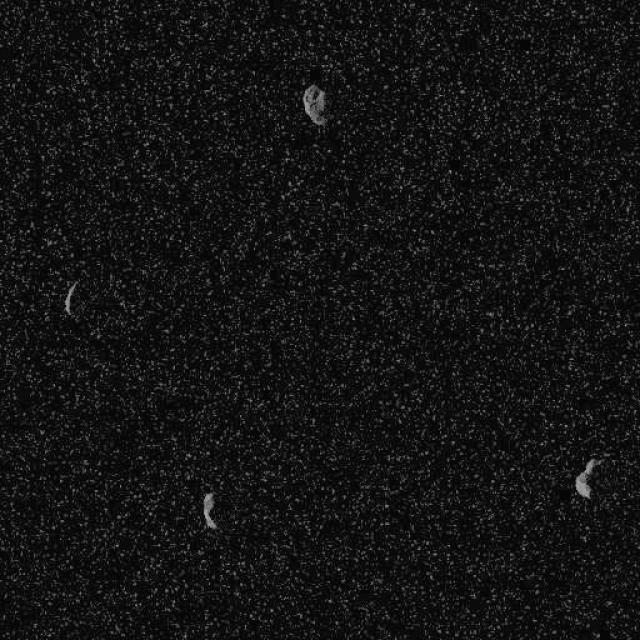D2: (301, 82, 329, 126), (574, 456, 598, 499), (202, 490, 218, 530), (62, 279, 78, 315)
